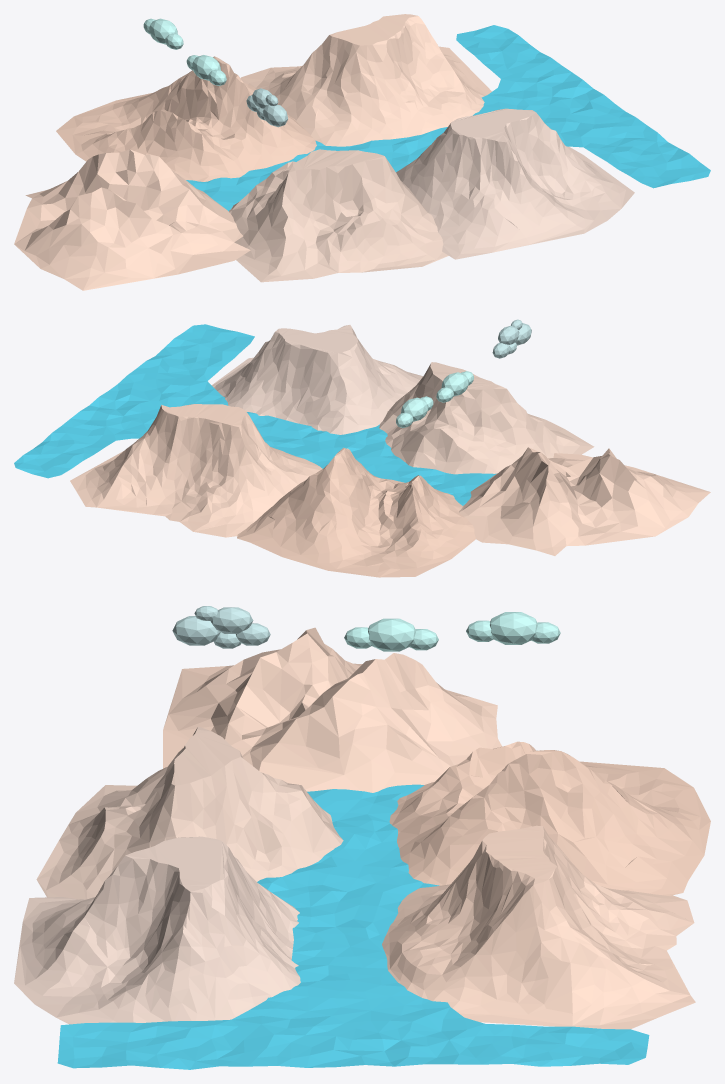
Rendered from landscape.glb.
3 renders of one model, top to bottom at view 1: azimuth 30°, elevation 25°; view 2: azimuth 150°, elevation 25°; view 3: azimuth 270°, elevation 25°, orthographic. The views are drawn at different scales.
Visible parts, largest first — view 1: Mountain 1, Mountain 5, Mountain 3, Mountain 2, river, Mountain 4, cloud 1, cloud 2, cloud 2.2; view 2: Mountain 2, river, Mountain 4, Mountain 5, Mountain 1, Mountain 3, cloud 1, cloud 2.2, cloud 2; view 3: river, Mountain 2, Mountain 1, Mountain 5, Mountain 4, Mountain 3, cloud 1, cloud 2.2, cloud 2.
Part boxes in pixels (x1=…): Mountain 1: x1=396, y1=108, x2=634, y2=259; Mountain 5: x1=14, y1=149, x2=250, y2=290; Mountain 3: x1=229, y1=149, x2=448, y2=282; Mountain 2: x1=240, y1=14, x2=491, y2=146; river: x1=186, y1=25, x2=710, y2=211; Mountain 4: x1=56, y1=56, x2=316, y2=181; cloud 1: x1=246, y1=88, x2=287, y2=127; cloud 2: x1=143, y1=18, x2=183, y2=49; cloud 2.2: x1=186, y1=55, x2=226, y2=85; Mountain 2: x1=70, y1=404, x2=322, y2=537; river: x1=14, y1=324, x2=496, y2=505; Mountain 4: x1=237, y1=447, x2=475, y2=577; Mountain 5: x1=459, y1=447, x2=710, y2=555; Mountain 1: x1=211, y1=325, x2=422, y2=434; Mountain 3: x1=379, y1=362, x2=594, y2=474; cloud 1: x1=492, y1=319, x2=531, y2=358; cloud 2.2: x1=436, y1=371, x2=473, y2=402; cloud 2: x1=396, y1=396, x2=433, y2=427; river: x1=57, y1=784, x2=649, y2=1069; Mountain 2: x1=382, y1=825, x2=695, y2=1029; Mountain 1: x1=14, y1=836, x2=300, y2=1024; Mountain 5: x1=163, y1=627, x2=501, y2=792; Mountain 4: x1=389, y1=741, x2=710, y2=895; Mountain 3: x1=36, y1=726, x2=343, y2=899; cloud 1: x1=172, y1=606, x2=270, y2=648; cloud 2.2: x1=344, y1=618, x2=438, y2=651; cloud 2: x1=466, y1=612, x2=560, y2=644.
Bounding box in the file's own units: 167 × 39.78 × 119.
